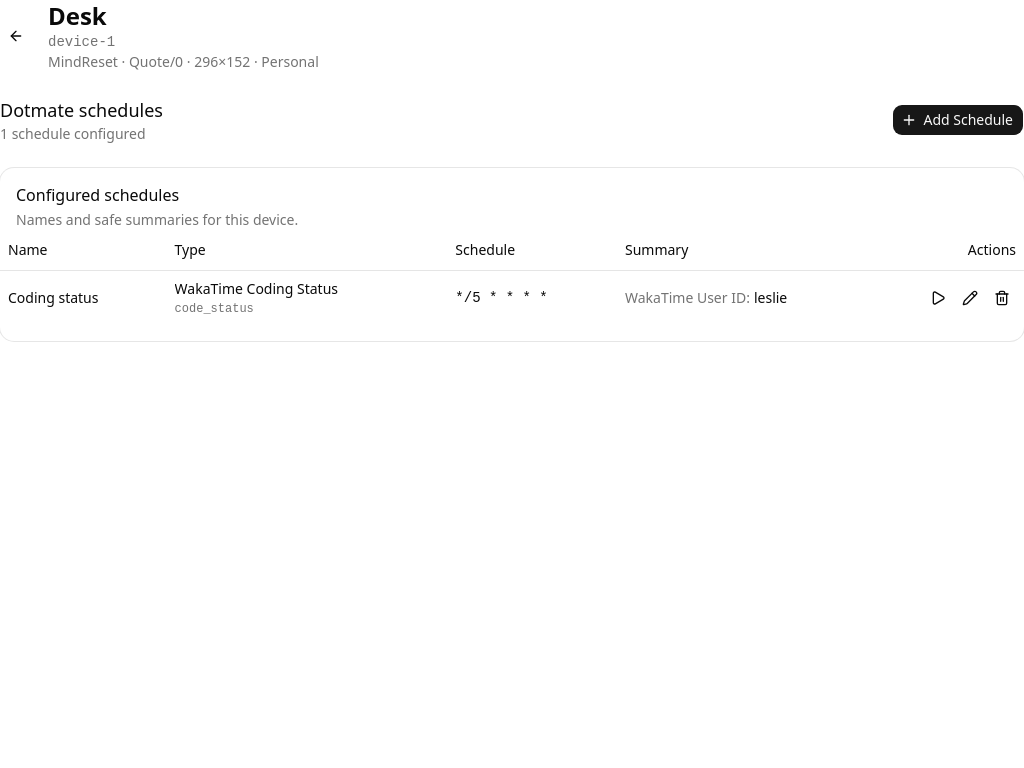
DeviceDetailPage › closes an untouched create form without a discard confirmation
Check: the heading "Desk" is shown, box [48, 0, 107, 32]
Click the button "Add Schedule": coordinates (958, 120) [892, 104, 1023, 136]
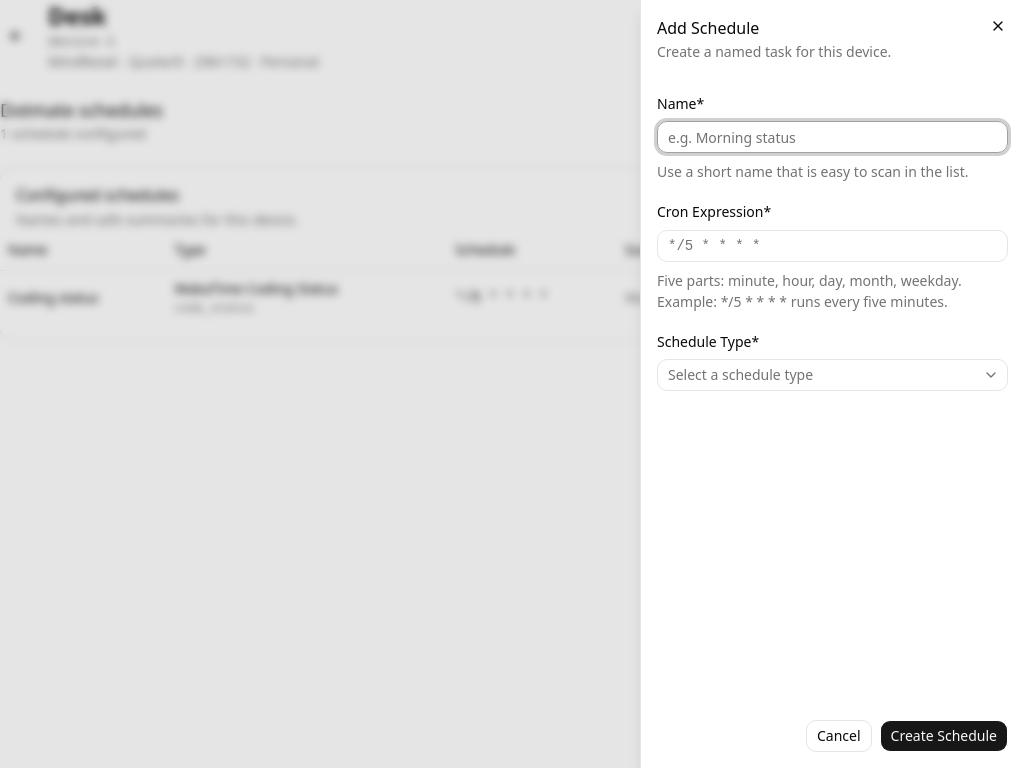
Click the button "Cancel": coordinates (839, 736) [806, 720, 872, 752]
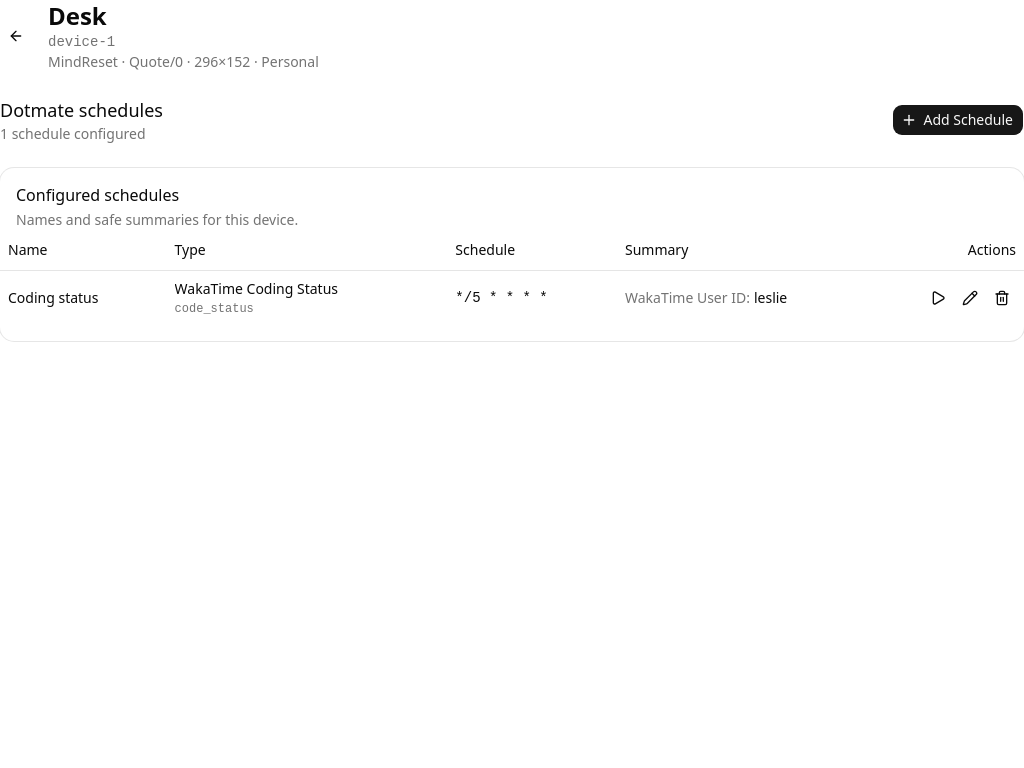
Check: the dialog is gone
